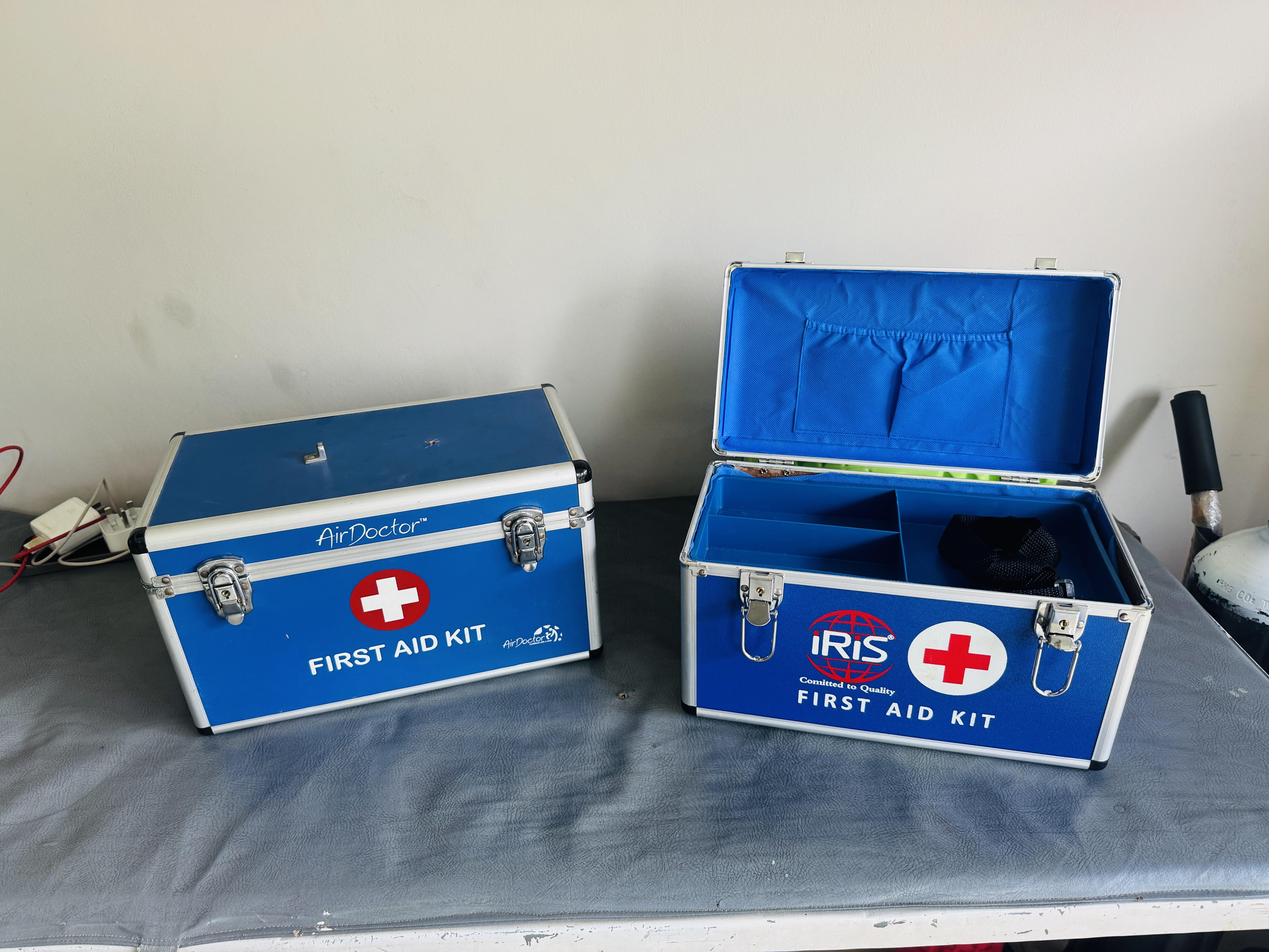FirstAidBox: (663, 216, 1163, 789), (110, 370, 612, 741)
